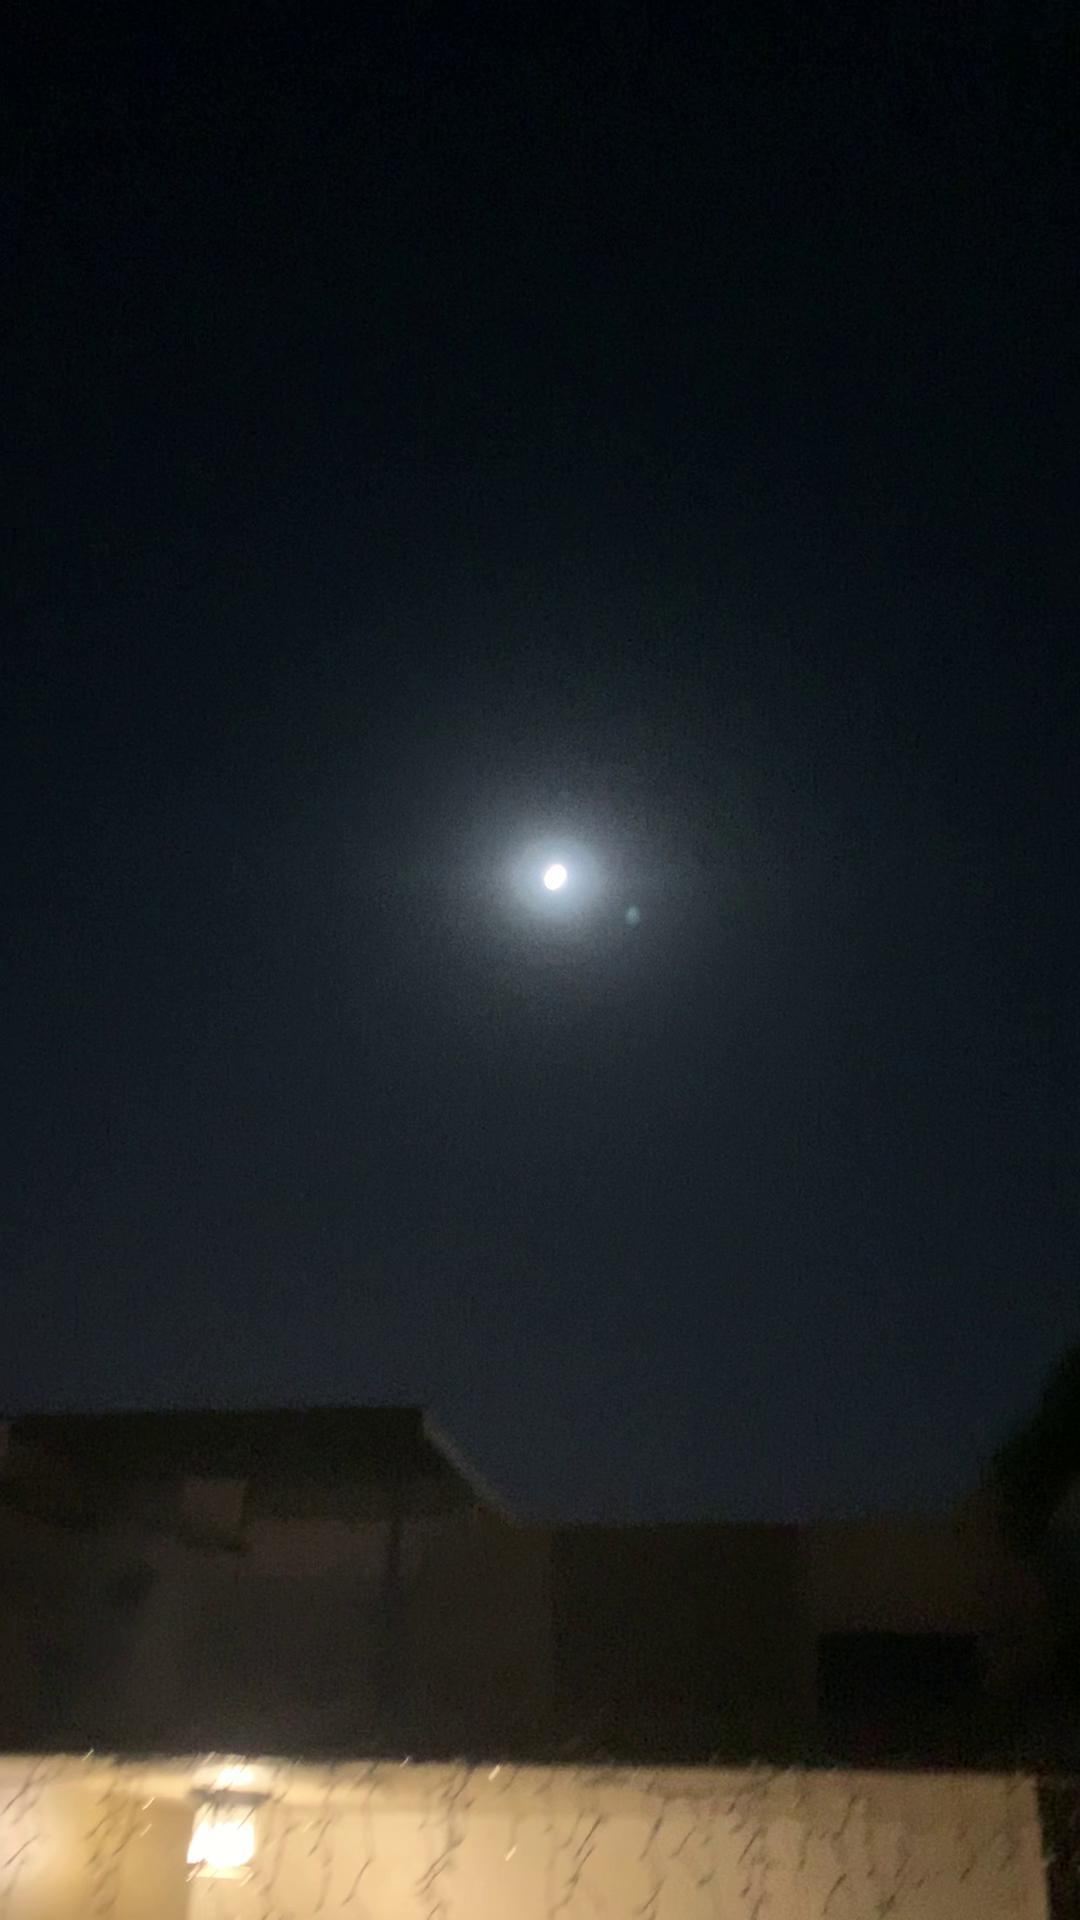moon: (516, 840, 603, 919)
